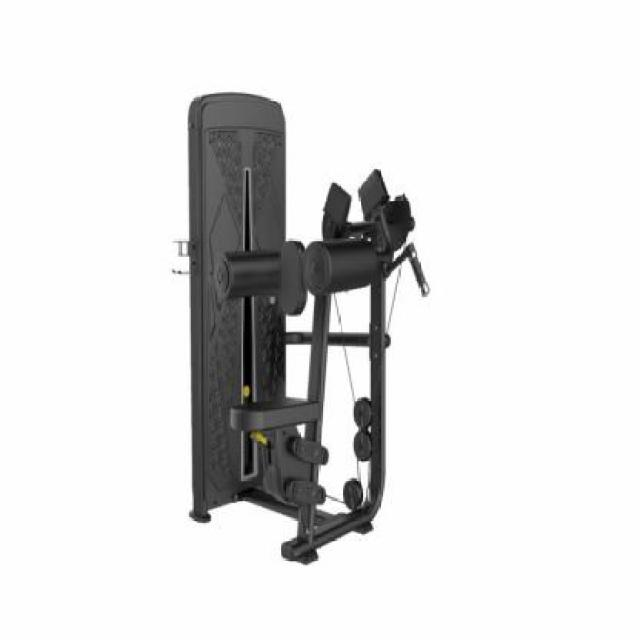lateral raises machine: (172, 91, 430, 566)
